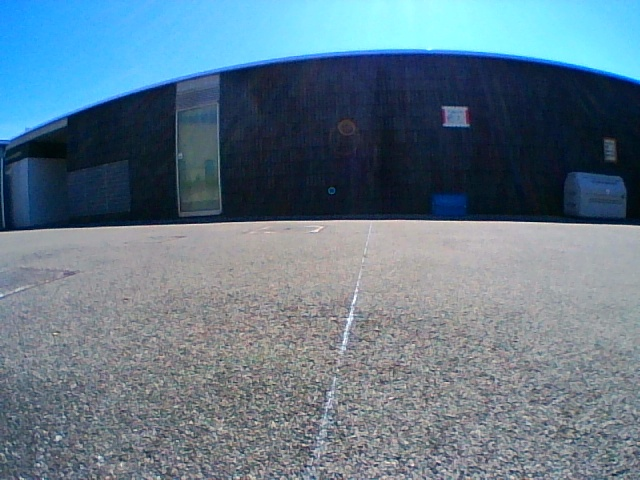blue_box: (432, 195, 467, 217)
